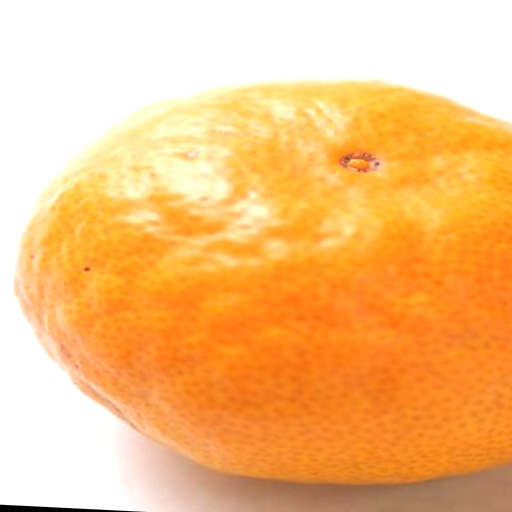fruit: (15, 80, 512, 483)
